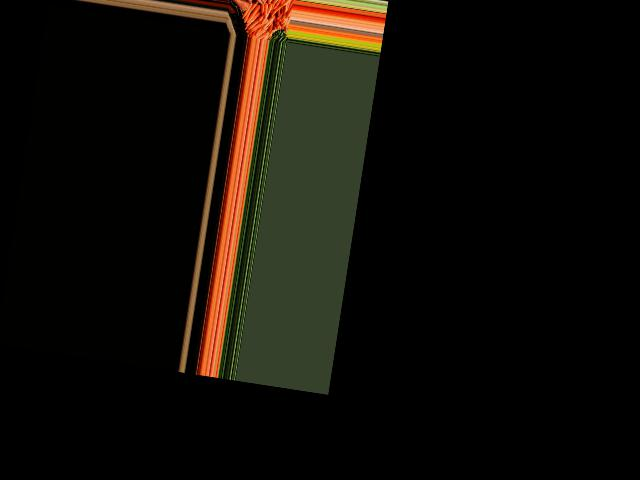carrot: (246, 1, 260, 24)
